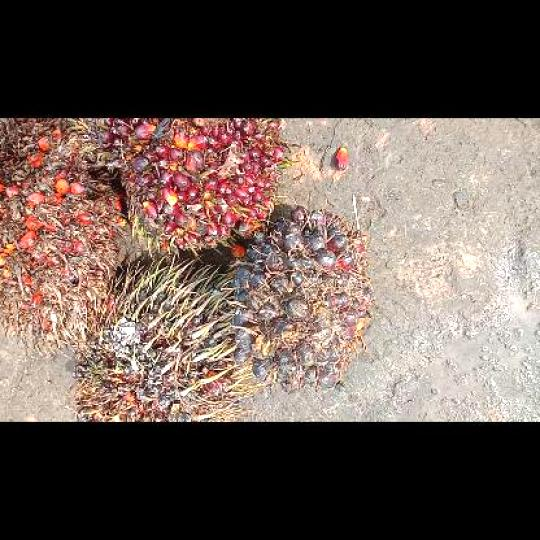masak: (112, 117, 285, 246)
terlalu masak: (1, 118, 121, 354)
